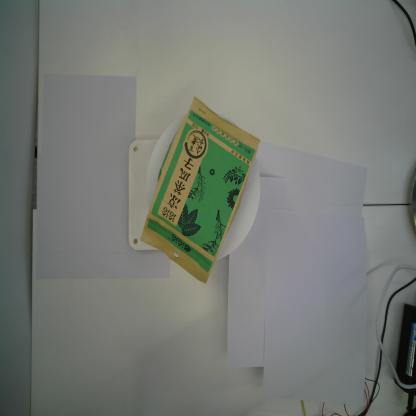Dried Food: (138, 94, 263, 285)
